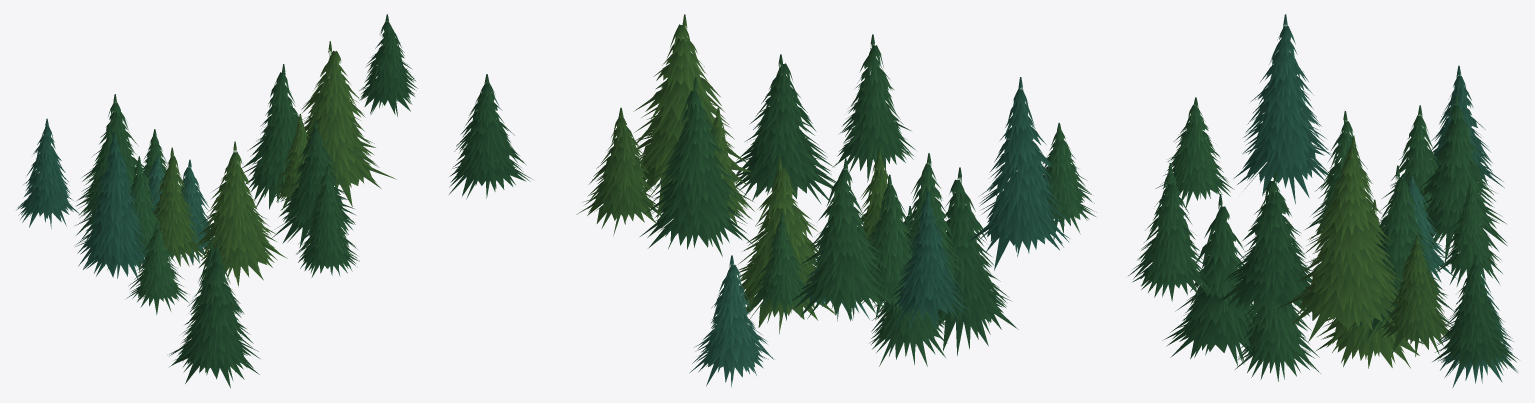
File: pine_17.glb
3 views of the same model, side by side, from view 1: azimuth 30°, elevation 25°; view 2: azimuth 150°, elevation 25°; view 3: azimuth 270°, elevation 25° (orthographic). The views are drawn at different scales.
Visible parts, largest first — view 1: pine_17; view 2: pine_17; view 3: pine_17.
Part boxes in pixels (x1,y1,x2,y2): pine_17: [16, 14, 417, 388]; pine_17: [449, 14, 1096, 387]; pine_17: [1128, 14, 1518, 387].
Size of the model in its own units: 40.9 by 24.37 by 27.69.
1 material, 1 textured.
